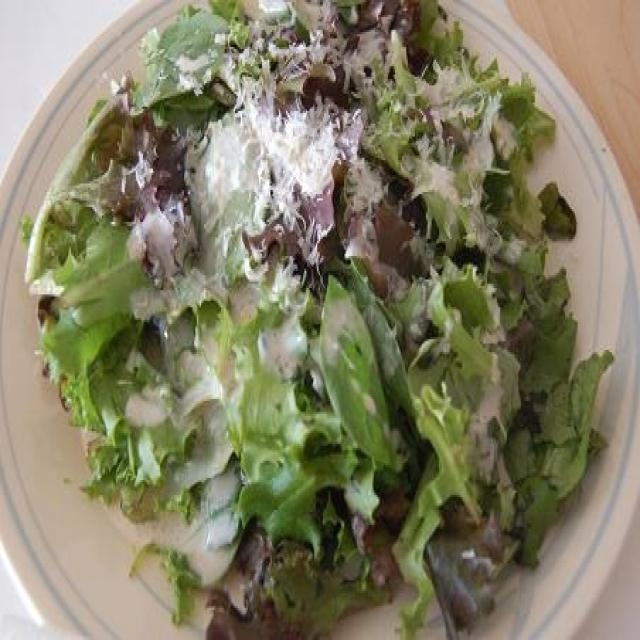蔬菜料理: (20, 7, 617, 630)
